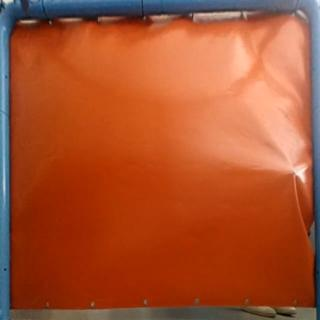Hit-hRxx: (288, 164, 302, 181)
